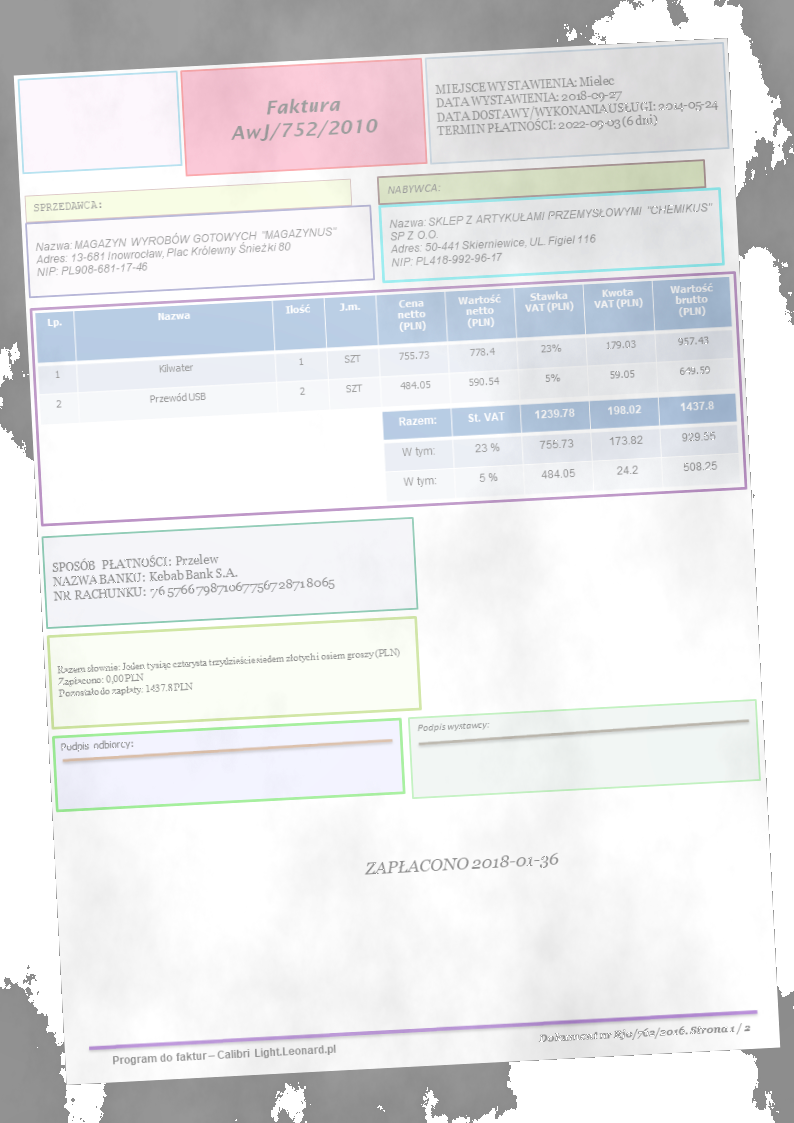Table: (34, 276, 736, 426), (380, 391, 742, 503)
TextBox: (385, 198, 717, 270), (433, 65, 721, 141), (55, 645, 404, 701), (50, 540, 336, 607), (33, 222, 342, 280), (226, 90, 383, 146), (109, 1039, 339, 1069), (537, 1017, 754, 1048), (360, 847, 565, 879), (58, 733, 136, 754), (30, 194, 104, 215), (413, 716, 489, 735), (383, 178, 442, 197)
